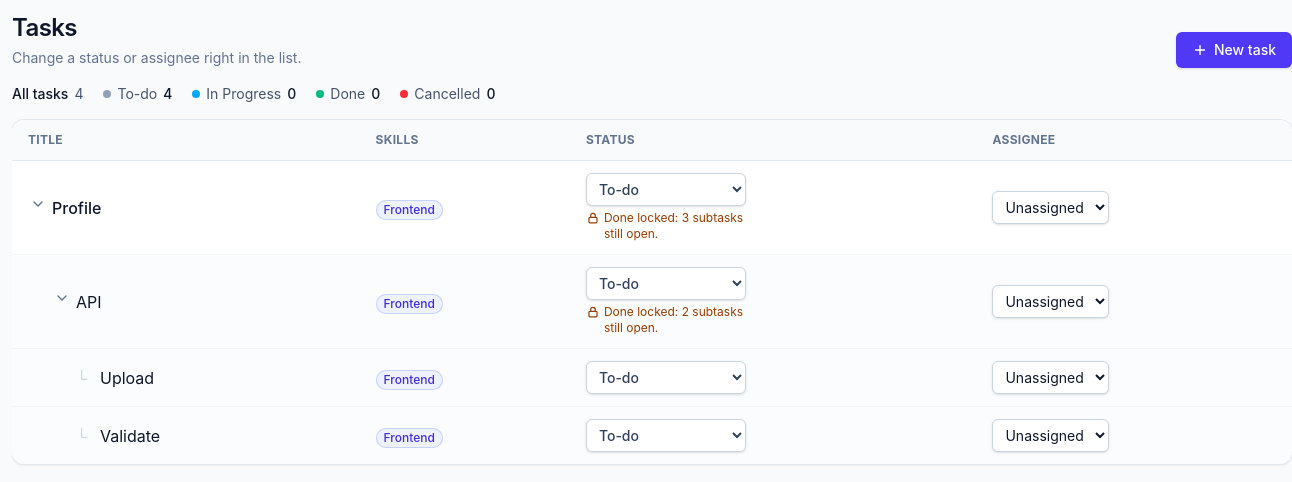
Test: TaskListPage tree › lists subtasks under their parent in order, and collapses them
This screenshot has width=1292, height=482.
Click the button named "Collapse subtasks of API".
click(62, 298)  # box [52,288,72,308]
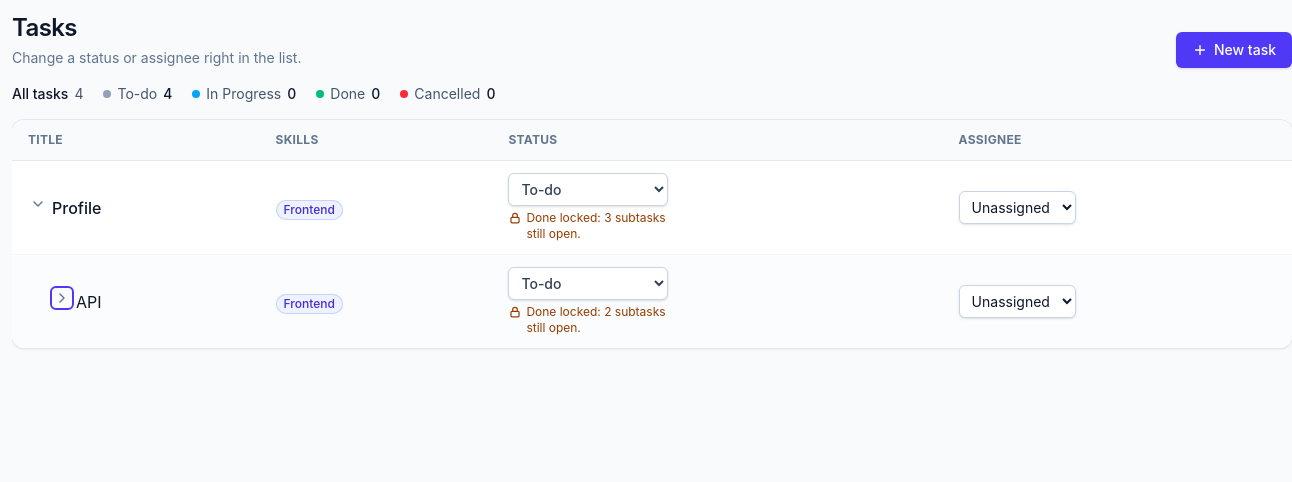
Result: the button named "Expand subtasks of API" is collapsed at [52,288,72,308]
